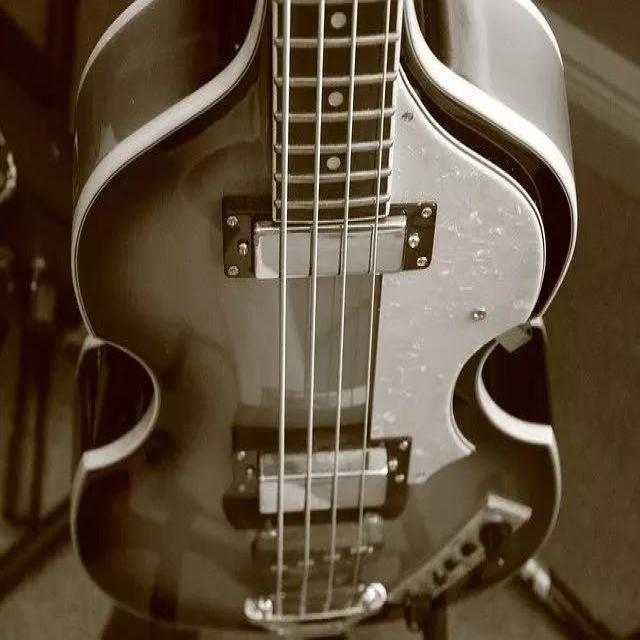bass: (71, 0, 577, 635)
